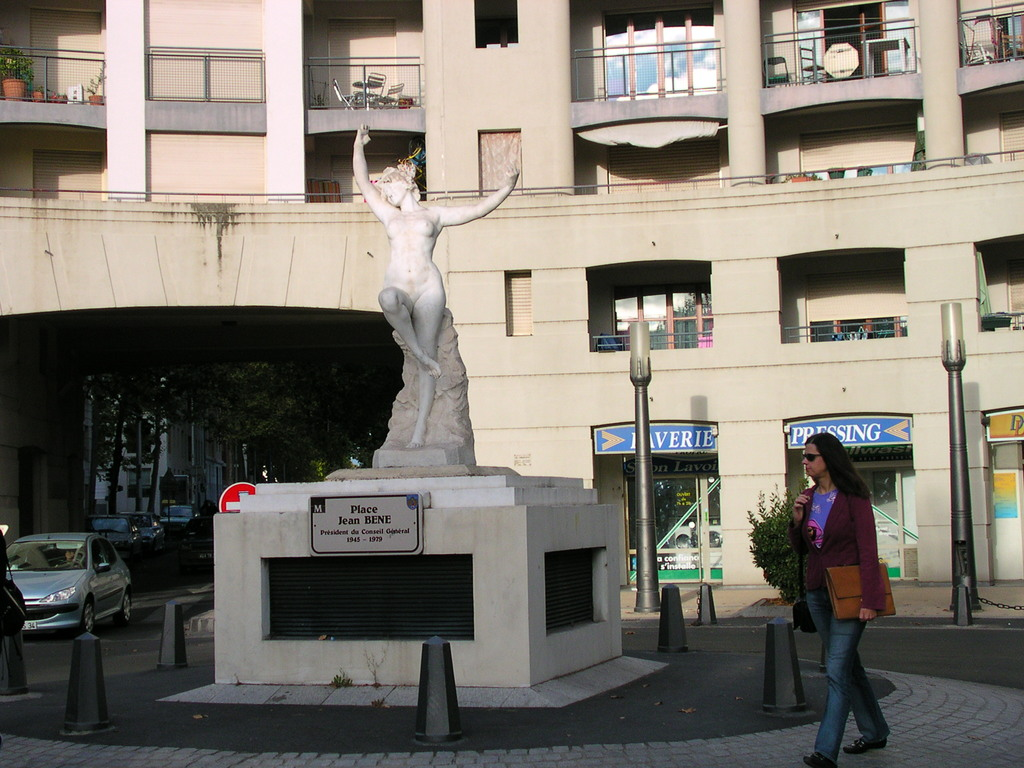cars: (7, 529, 127, 635), (79, 509, 161, 556), (155, 497, 208, 533)
